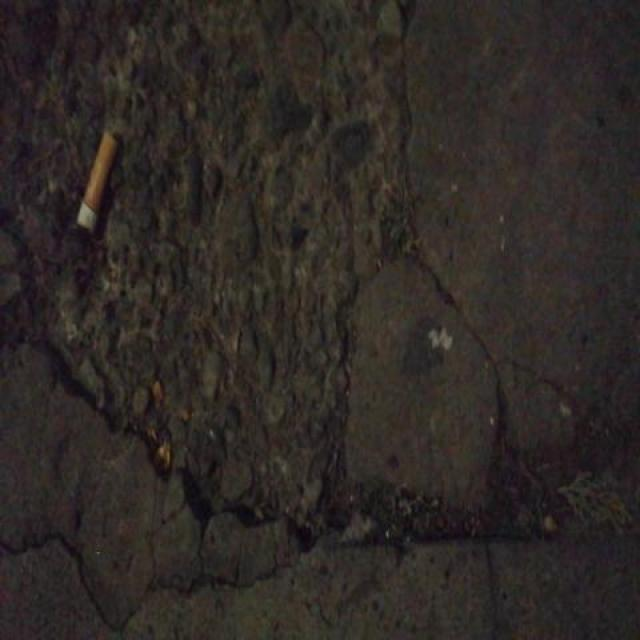non-organic waste: (71, 123, 124, 238)
